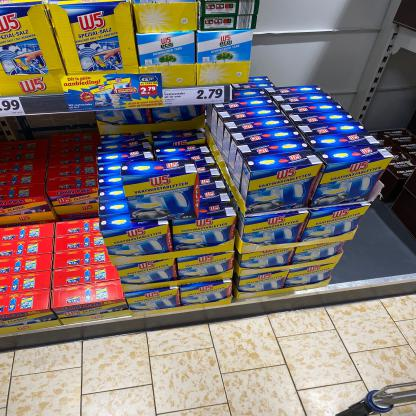prtg: (60, 74, 165, 112), (163, 87, 225, 107), (1, 98, 27, 118)
